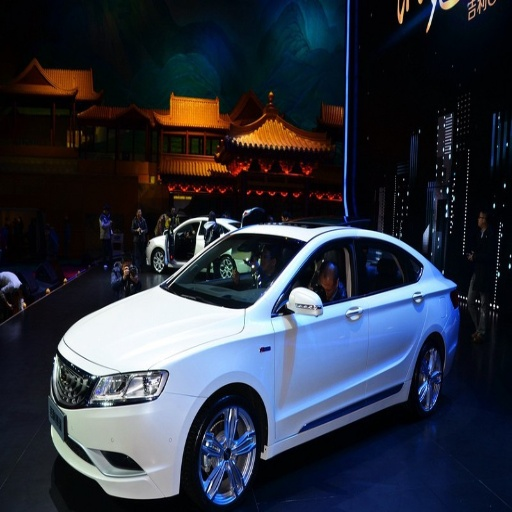back_left_door: (355, 236, 422, 394)
front_bumper: (48, 356, 201, 495)
front_glass: (162, 236, 304, 307)
front_left_door: (275, 237, 368, 437)
